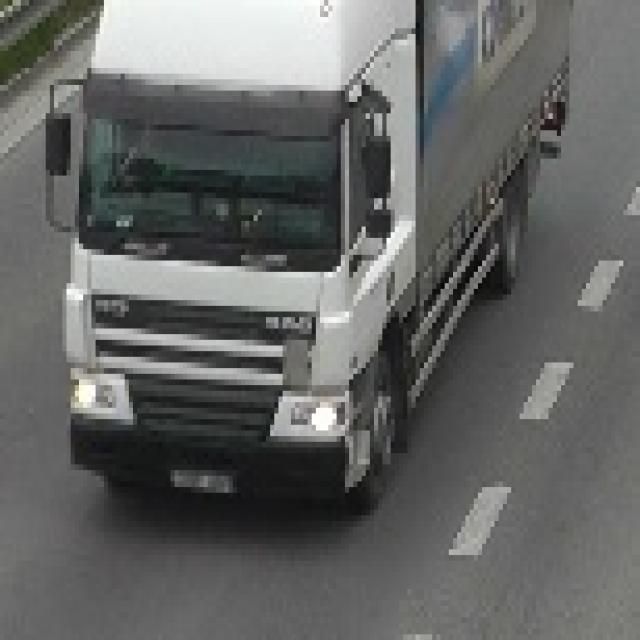truck: (46, 0, 569, 510)
